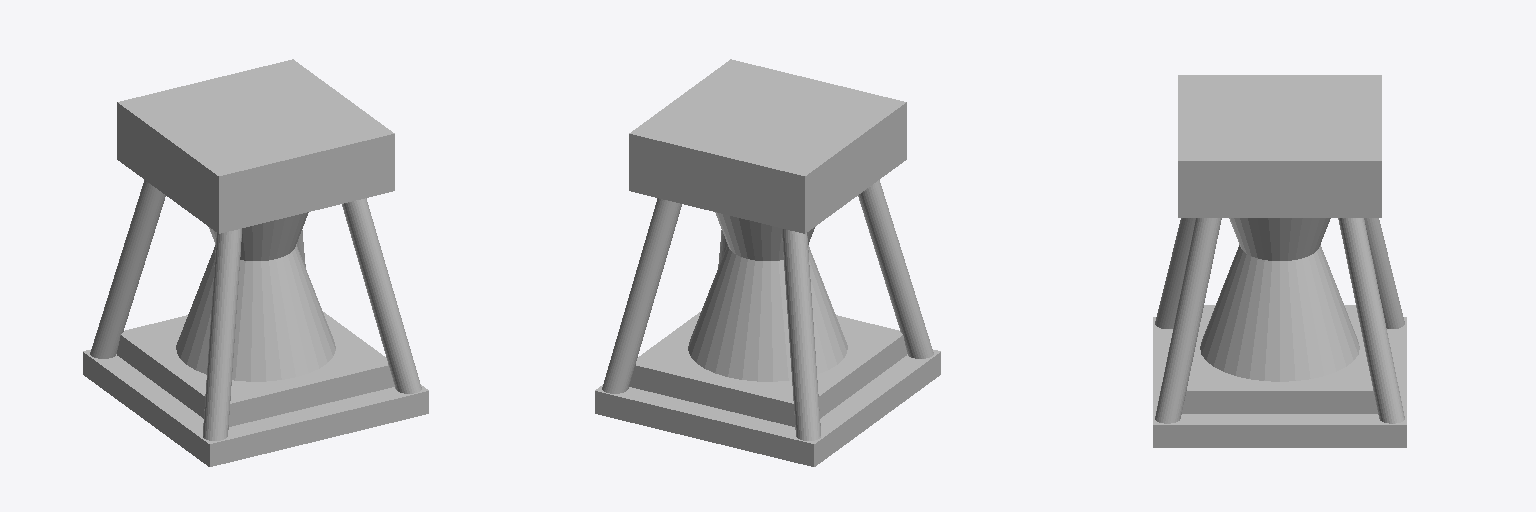
Rendered from tier3tower_model.obj.
3 views of the same model, side by side, from view 1: azimuth 30°, elevation 25°; view 2: azimuth 150°, elevation 25°; view 3: azimuth 270°, elevation 25° (orthographic).
Parts seen in each view (by area): view 1: Cube.002_Cube.005, Cone.001, Cube_Cube.003, Cube.001_Cube.004, Cone, Cylinder.001, Cylinder, Cylinder.003; view 2: Cube.002_Cube.005, Cone.001, Cube_Cube.003, Cube.001_Cube.004, Cone, Cylinder.003, Cylinder.002, Cylinder.001; view 3: Cube.002_Cube.005, Cone.001, Cube_Cube.003, Cube.001_Cube.004, Cylinder, Cylinder.002, Cone, Cylinder.001, Cylinder.003.
Part boxes in pixels (x1,y1,x2,y2): Cube.002_Cube.005: (117, 59, 394, 233); Cone.001: (176, 244, 335, 381); Cube_Cube.003: (83, 350, 428, 466); Cube.001_Cube.004: (117, 312, 394, 426); Cone: (167, 80, 344, 260); Cylinder.001: (203, 229, 241, 440); Cylinder: (342, 198, 421, 393); Cylinder.003: (90, 180, 165, 358); Cube.002_Cube.005: (629, 59, 906, 233); Cone.001: (688, 244, 847, 381); Cube_Cube.003: (595, 350, 940, 466); Cube.001_Cube.004: (629, 312, 906, 426); Cone: (679, 80, 856, 260); Cylinder.003: (782, 229, 820, 440); Cylinder.002: (602, 198, 681, 393); Cylinder.001: (858, 180, 933, 358); Cube.002_Cube.005: (1178, 75, 1381, 217); Cone.001: (1200, 245, 1359, 381); Cube_Cube.003: (1153, 317, 1406, 447); Cube.001_Cube.004: (1182, 305, 1377, 413); Cylinder: (1155, 218, 1221, 423); Cylinder.002: (1338, 218, 1404, 423); Cone: (1196, 82, 1355, 260); Cylinder.001: (1155, 218, 1195, 328); Cylinder.003: (1364, 218, 1404, 328).
Size of the model in its own units: 2 by 2.4 by 2.